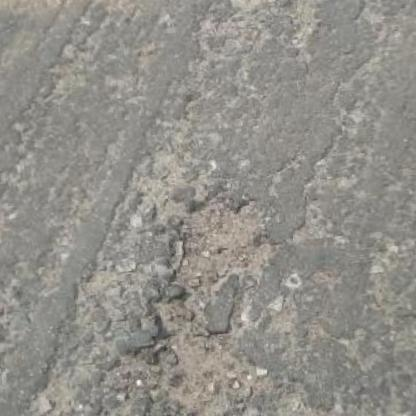pothole: (115, 192, 285, 416)
